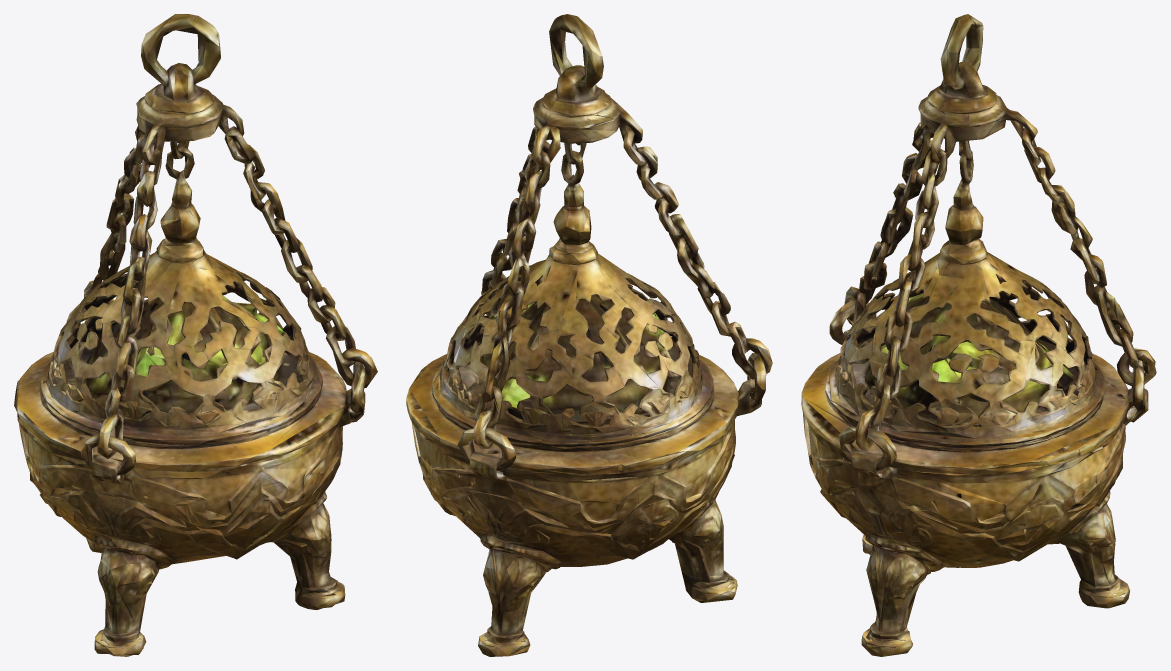
File: dress-censer.glb
The picture shows the model from 3 angles, left to right: view 1: azimuth 30°, elevation 25°; view 2: azimuth 150°, elevation 25°; view 3: azimuth 270°, elevation 25°; orthographic projection.
Size of the model in its own units: 0.5261 by 0.9989 by 0.5519.
Materials: 1 (1 with a texture image).
